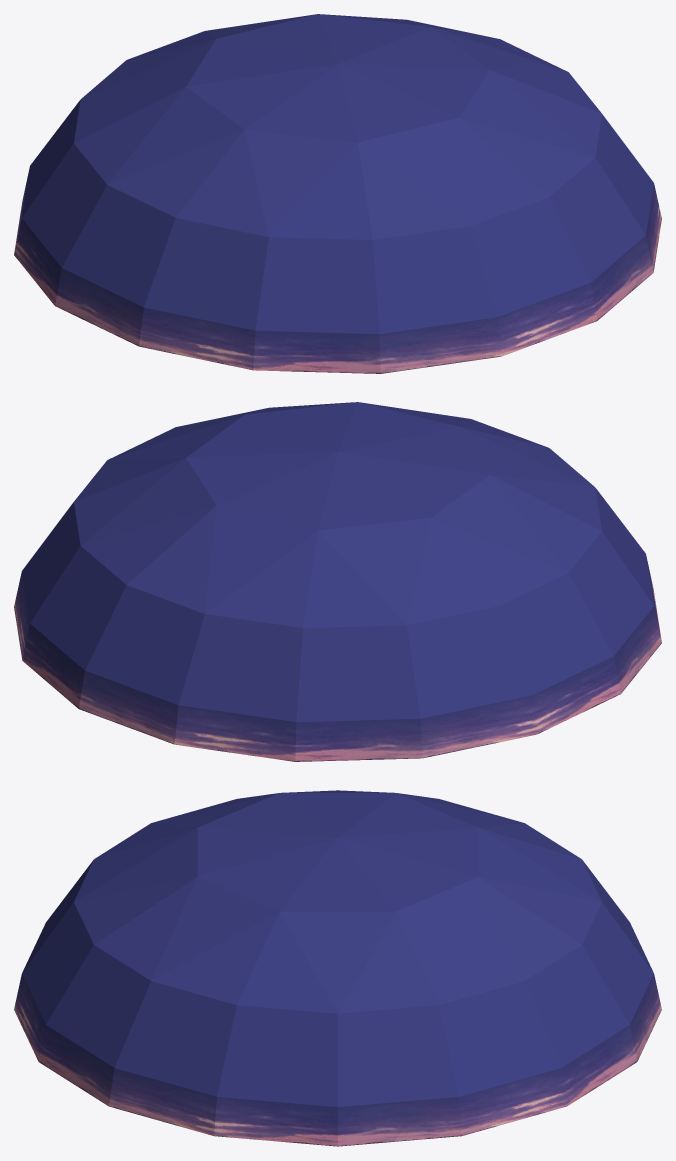
The model's file is Skybox1.obj.
The picture shows the model from 3 angles, top to bottom: view 1: azimuth 30°, elevation 25°; view 2: azimuth 150°, elevation 25°; view 3: azimuth 270°, elevation 25°; orthographic projection.
Visible parts, largest first — view 1: Object_2; view 2: Object_2; view 3: Object_2.
Part boxes in pixels (x1,y1,x2,y2): Object_2: (14, 14, 661, 373); Object_2: (14, 402, 661, 761); Object_2: (14, 790, 661, 1146).
Bounding box in the file's own units: 100000 × 29222 × 100000.
